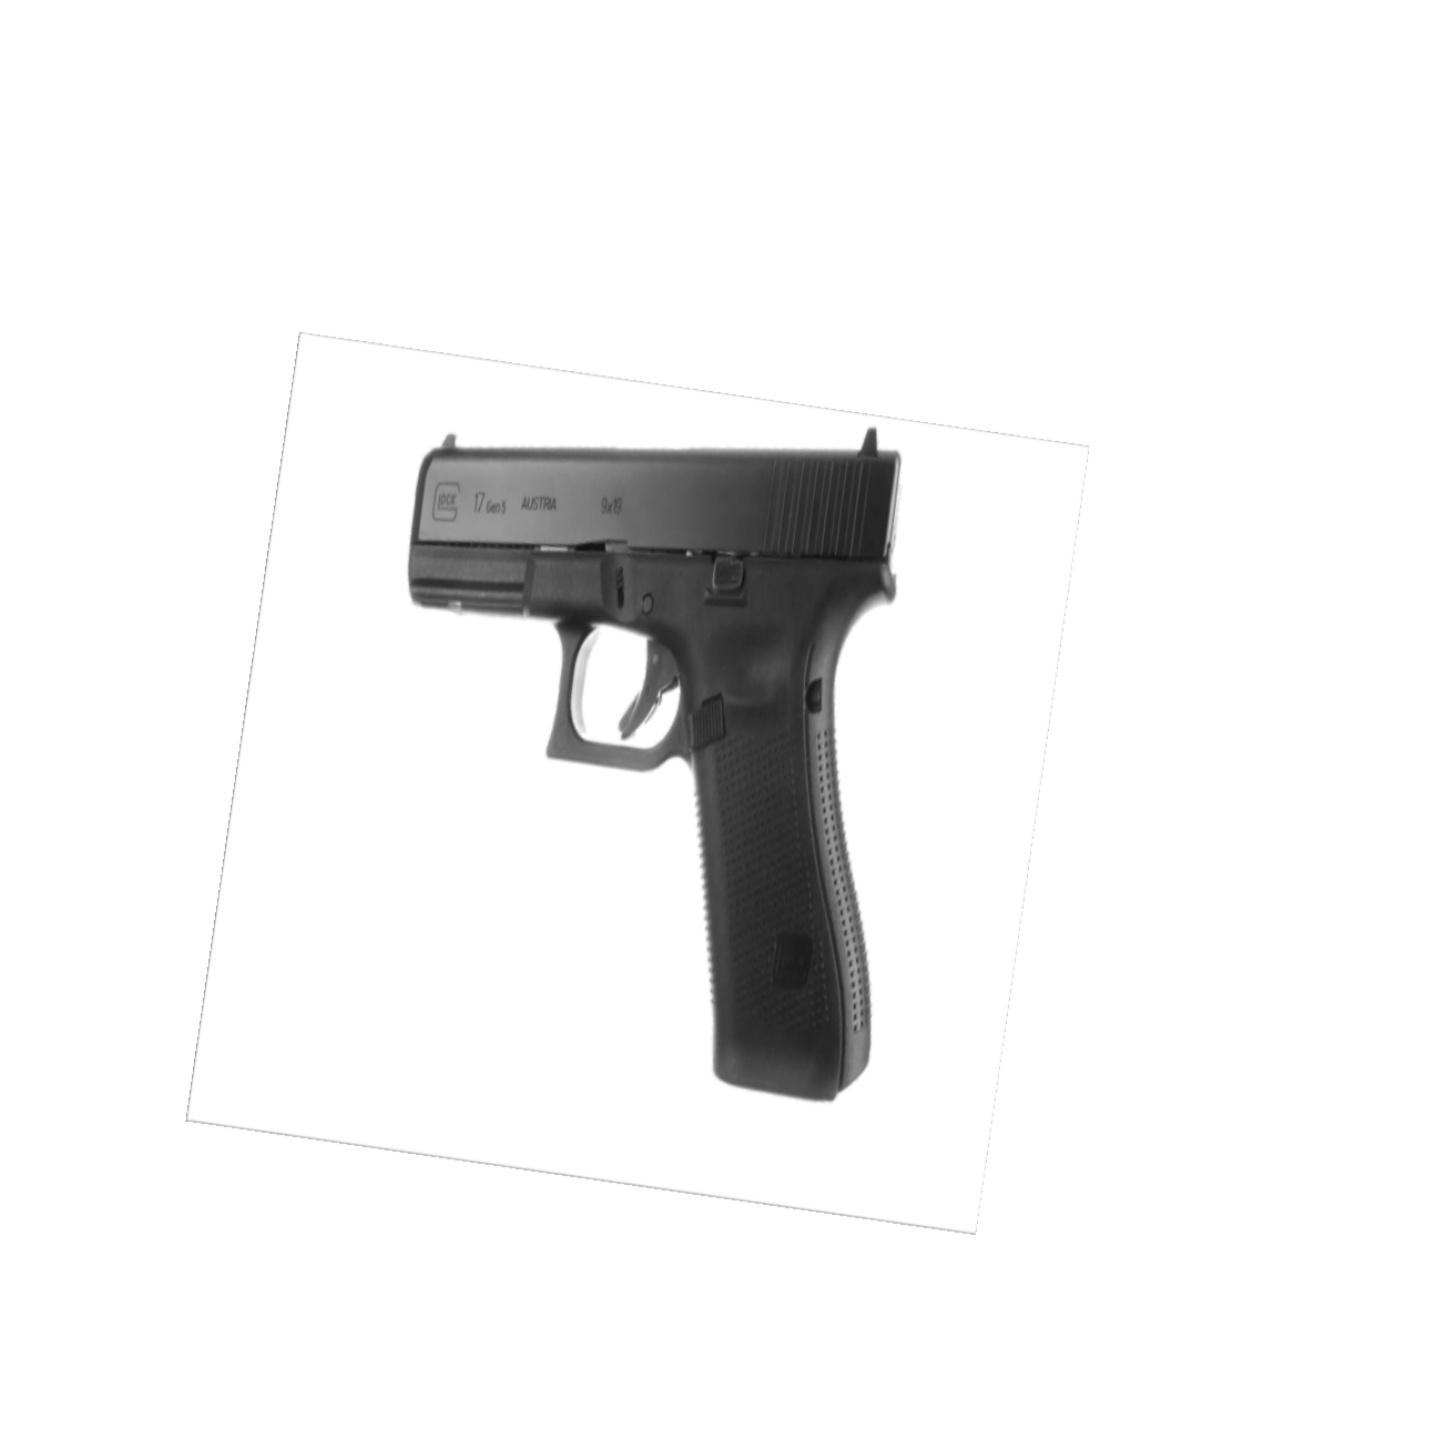gun: (404, 425, 898, 1101)
